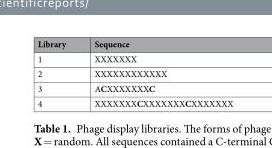table: (36, 37, 232, 109)
table column: (79, 37, 232, 109), (36, 37, 79, 109)
table column header: (36, 37, 232, 50)
table row: (36, 50, 232, 65), (36, 65, 232, 80), (36, 80, 232, 95), (36, 95, 232, 109), (36, 37, 232, 50)
